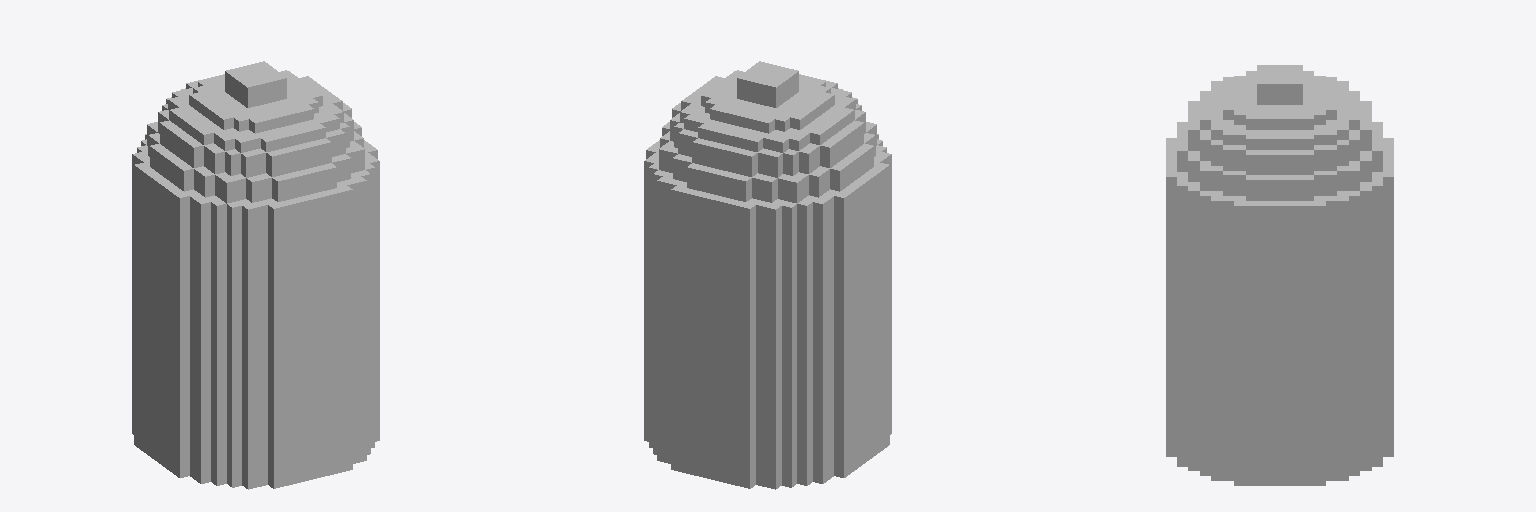
Rendered from Barber shop bottle-1.obj.
The picture shows the model from 3 angles: view 1: azimuth 30°, elevation 25°; view 2: azimuth 150°, elevation 25°; view 3: azimuth 270°, elevation 25°; orthographic projection.
Parts seen in each view (by area): view 1: Barber shop bottle-1; view 2: Barber shop bottle-1; view 3: Barber shop bottle-1.
Part boxes in pixels (x1,y1,x2,y2): Barber shop bottle-1: (132,61,379,489); Barber shop bottle-1: (644,61,891,489); Barber shop bottle-1: (1166,65,1393,485).
Size of the model in its own units: 20 by 35 by 20.